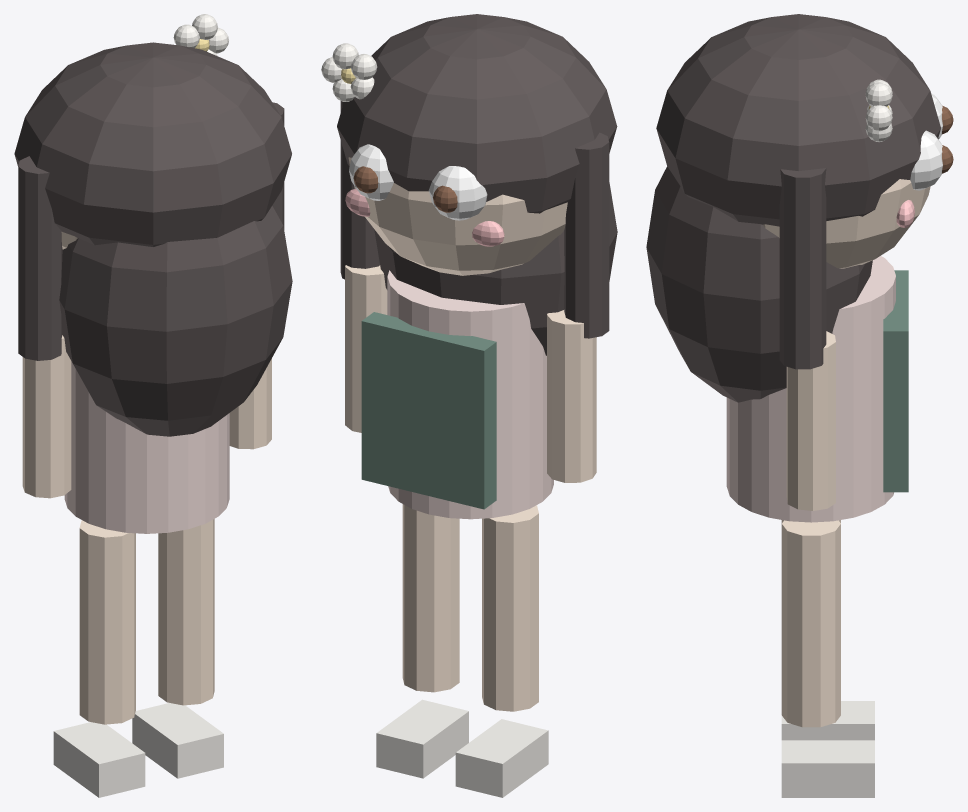
Rendered from chibi-barista-v2.glb.
3 renders of one model, left to right at view 1: azimuth 30°, elevation 25°; view 2: azimuth 150°, elevation 25°; view 3: azimuth 270°, elevation 25°, orthographic. The views are drawn at different scales.
Parts seen in each view (by area): view 1: ChibiBarista; view 2: ChibiBarista; view 3: ChibiBarista.
Part boxes in pixels (x1,y1,x2,y2): ChibiBarista: [14, 14, 292, 797]; ChibiBarista: [321, 14, 617, 797]; ChibiBarista: [646, 14, 953, 797].
Bounding box in the file's own units: 0.7246 × 1.92 × 0.726.
